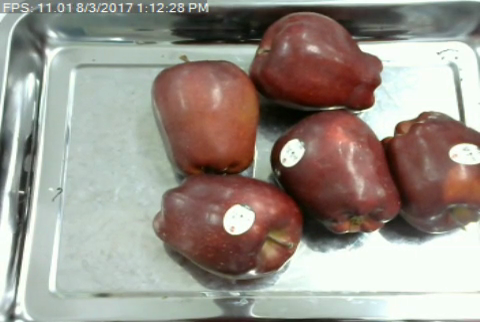Apple: (267, 104, 405, 240), (150, 167, 305, 280), (148, 54, 265, 177), (248, 10, 385, 115), (380, 106, 480, 236)
